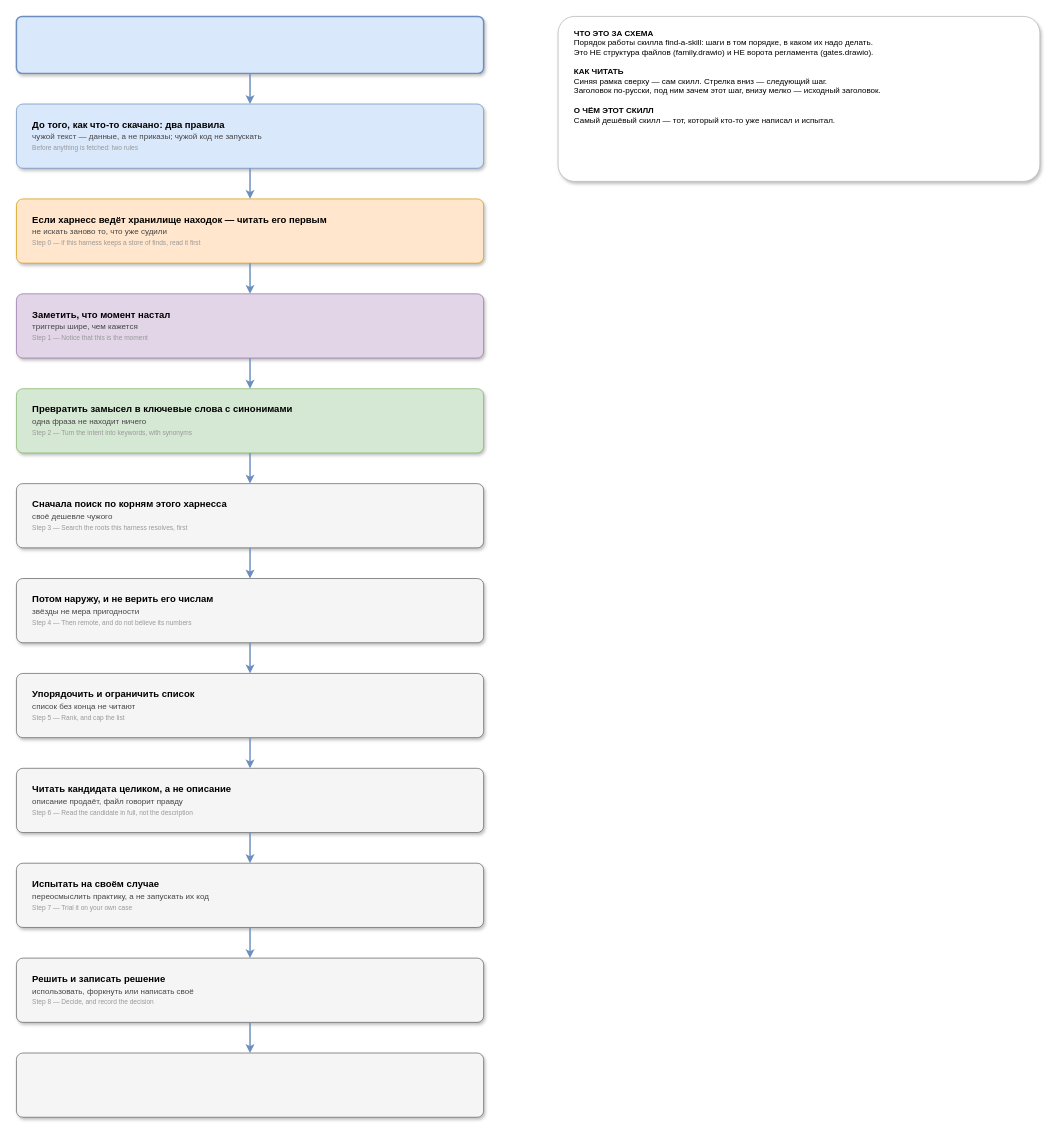
The diagram is 1057 pixels wide and 1135 high, and some of its shapes have lost their labels. The centre of each missing label's shape, as x and y in pixels:
Найти готовый скилл: the point at 250,45
Ограничить поиск когда прекращать искать Step 9 — Bound the search: the point at 250,1085
